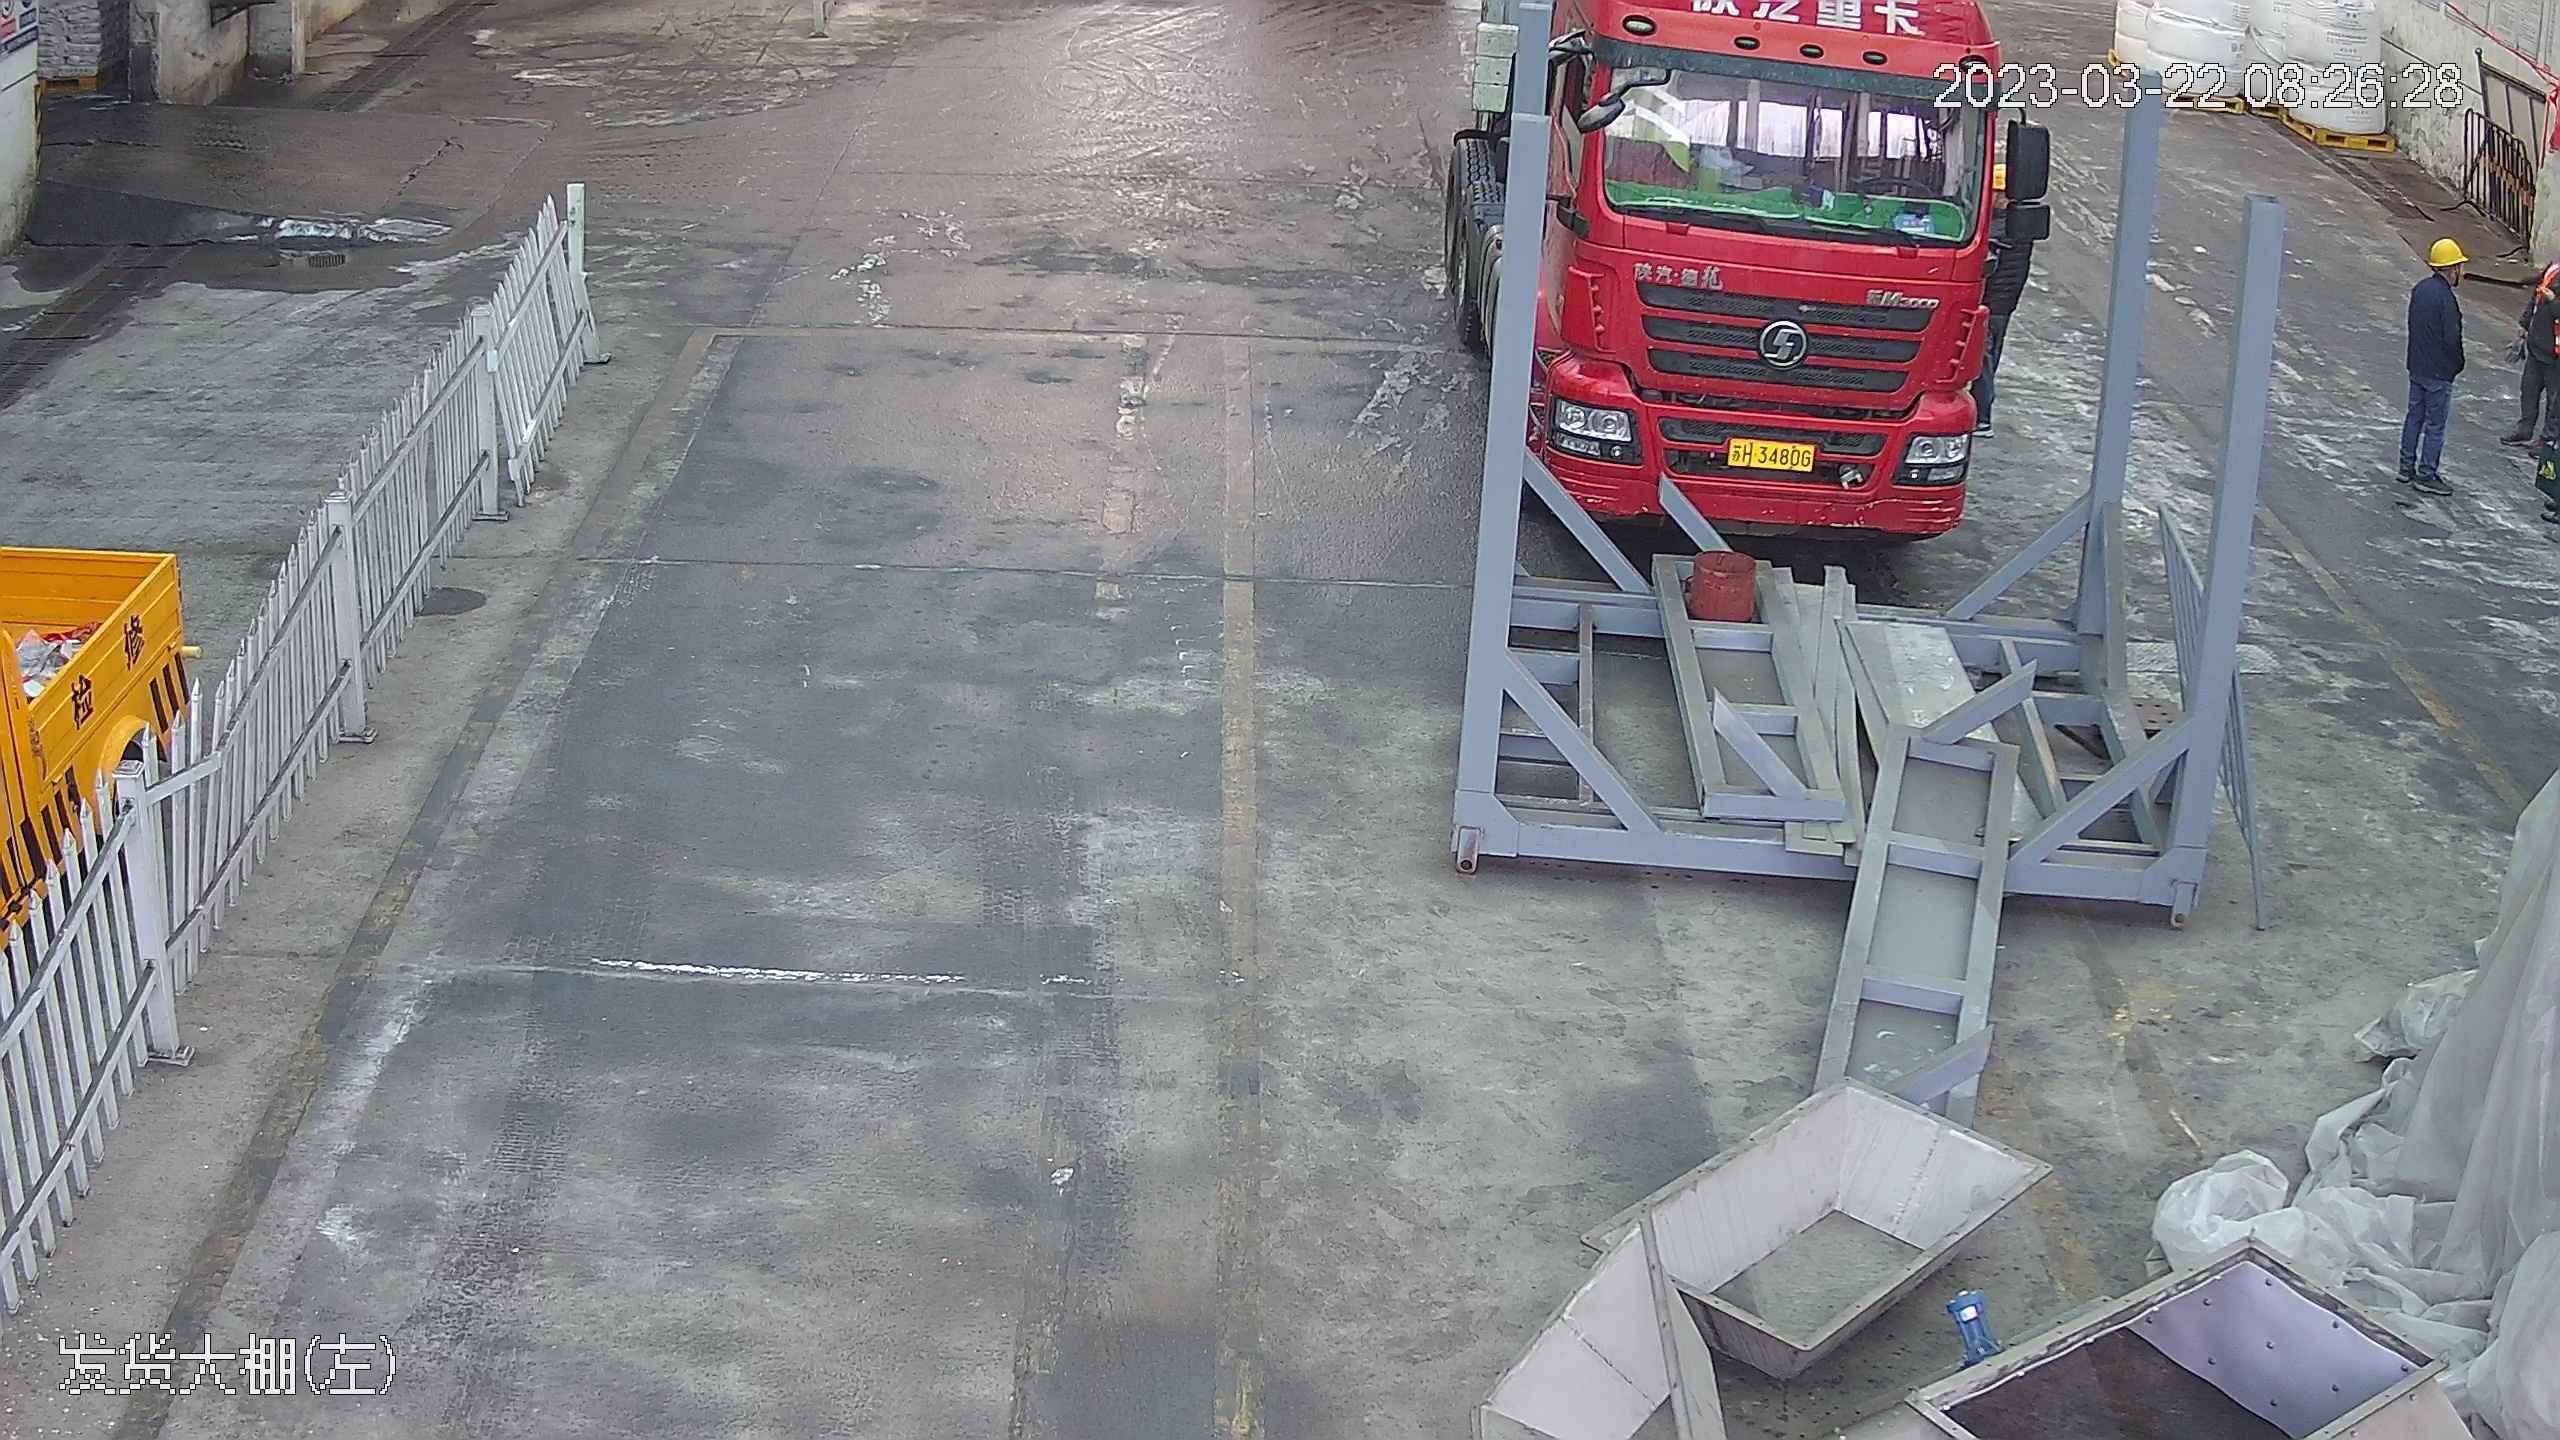head: (2411, 236, 2470, 317)
helmet: (2428, 236, 2467, 266)
people: (2389, 234, 2470, 491), (2506, 244, 2560, 463)
truck: (1492, 1, 2030, 546)
